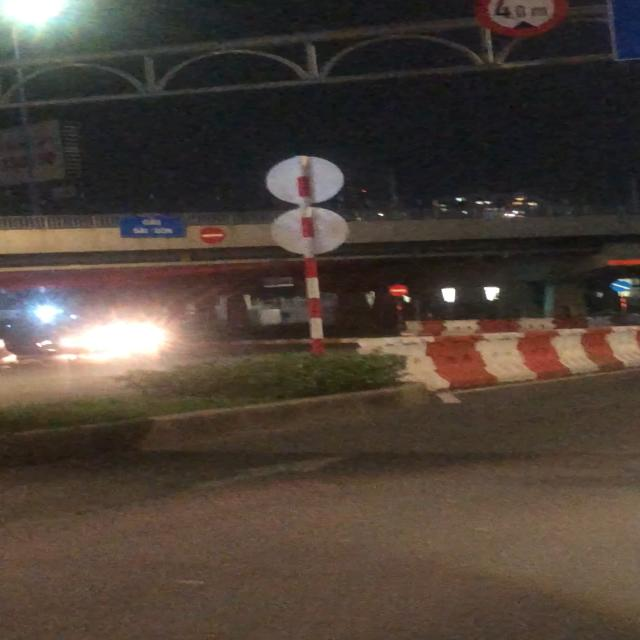Bien bao cam di nguoc chieu: (195, 225, 231, 245), (384, 282, 414, 298)
Bien bao huong phai di vong chuong ngai vat: (609, 278, 636, 294)
